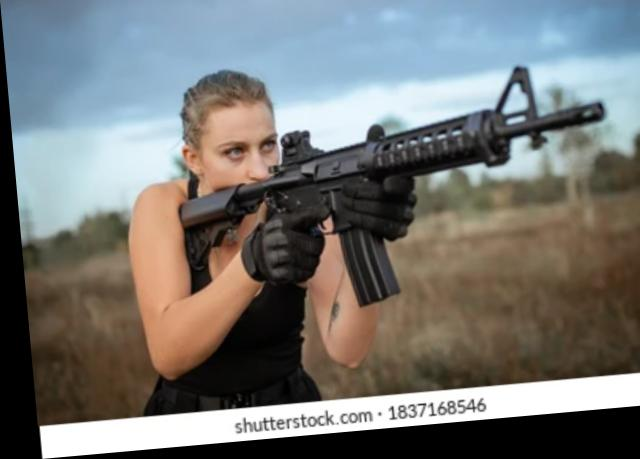other: (111, 65, 375, 415)
